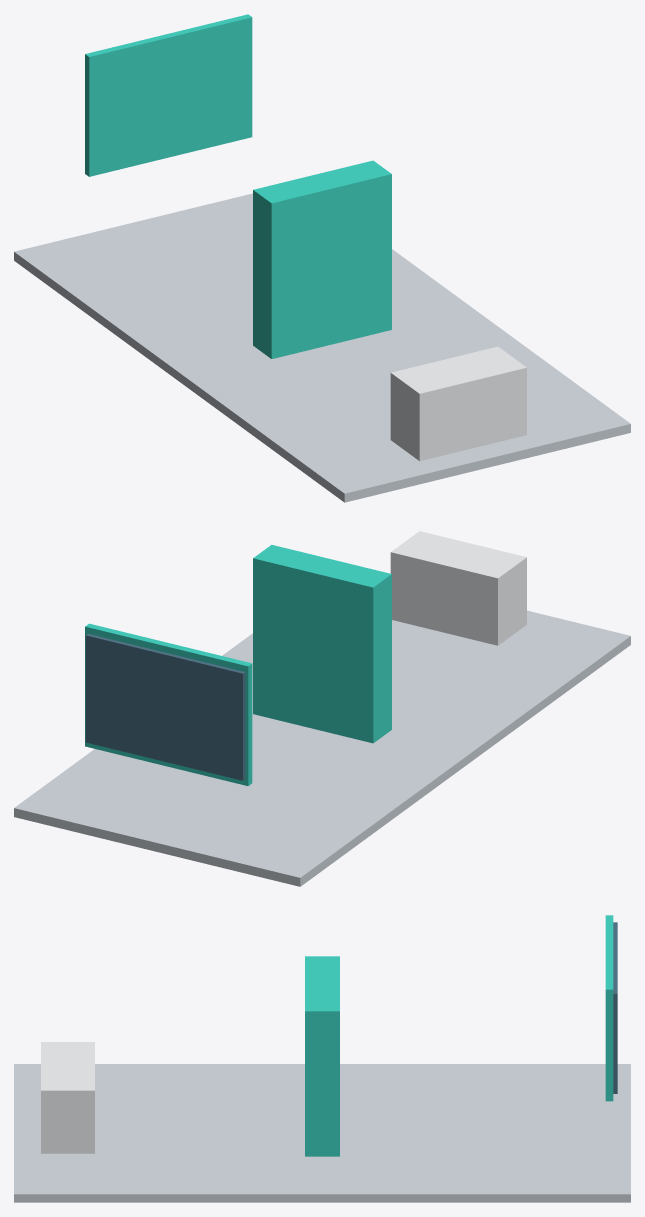
3 renders of one model, top to bottom at view 1: azimuth 30°, elevation 25°; view 2: azimuth 150°, elevation 25°; view 3: azimuth 270°, elevation 25°, orthographic. The views are drawn at different scales.
Parts seen in each view (by area): view 1: Exhibition Booth Concept; view 2: Exhibition Booth Concept; view 3: Exhibition Booth Concept.
Part boxes in pixels (box(x1,y1,x2,y2)): Exhibition Booth Concept: box(14, 14, 630, 502); Exhibition Booth Concept: box(14, 531, 630, 886); Exhibition Booth Concept: box(14, 915, 630, 1202).
Bounding box in the file's own units: 4 × 2.65 × 8.
